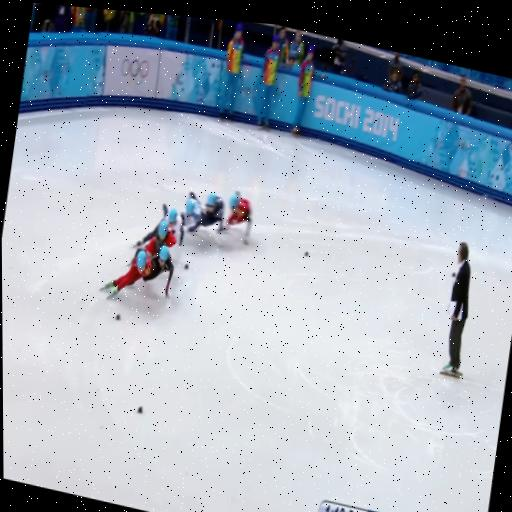Skater: (101, 251, 152, 299), (135, 204, 178, 247), (143, 246, 174, 298), (184, 193, 224, 232), (135, 220, 176, 257), (227, 192, 252, 245), (180, 192, 203, 245), (145, 220, 176, 255)
